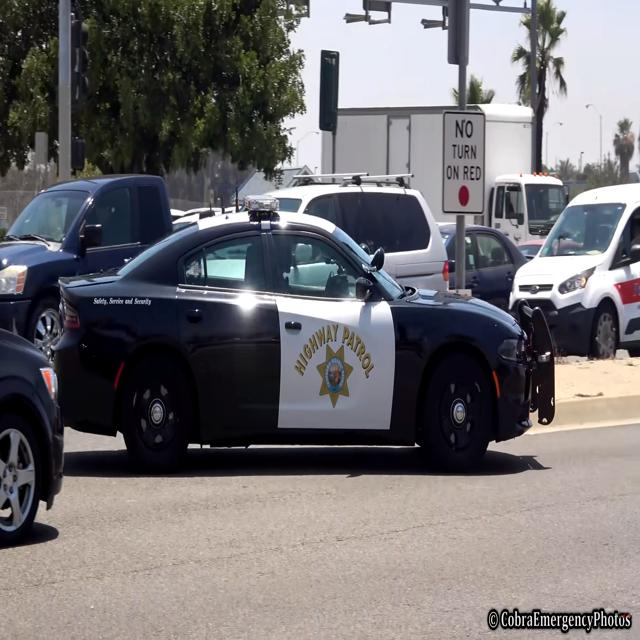emergency-vehicles: (17, 194, 564, 498)
